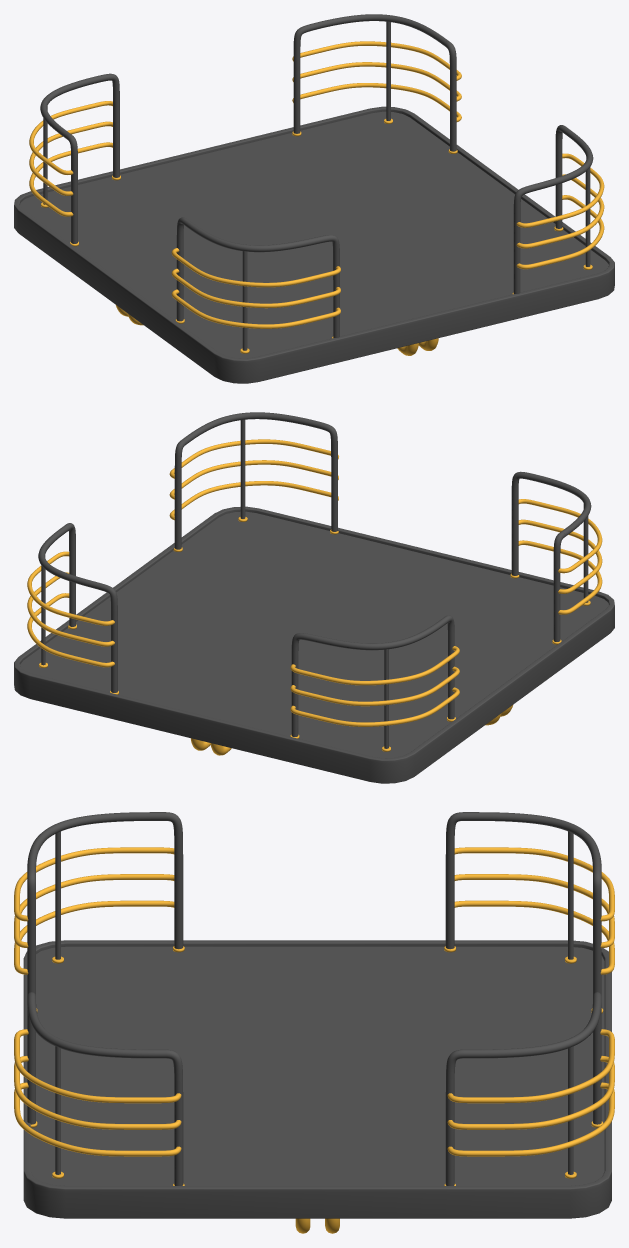
Rendered from Platform4x4.fbx.
3 renders of one model, top to bottom at view 1: azimuth 30°, elevation 25°; view 2: azimuth 150°, elevation 25°; view 3: azimuth 270°, elevation 25°, orthographic. The views are drawn at different scales.
Parts seen in each view (by area): view 1: PlatformFloor, Platform, MainStruct.001, MainStruct.002, MainStruct.003, MainStruct, BarraOriz3.002, BarraOriz1.002, BarraOriz2.002, BarraOriz3.001, BarraOriz1.001, BarraOriz2.001 (+7 smaller); view 2: PlatformFloor, Platform, MainStruct.003, MainStruct.002, MainStruct, MainStruct.001, BarraOriz3, BarraOriz1, BarraOriz2, BarraOriz1.003, BarraOriz3.003, BarraOriz2.003 (+7 smaller); view 3: PlatformFloor, Platform, MainStruct, MainStruct.002, MainStruct.001, MainStruct.003, BarraOriz3.001, BarraOriz3.003, BarraOriz2.001, BarraOriz2.003, BarraOriz1.001, BarraOriz1.003 (+10 smaller).
Part boxes in pixels (left/top/right/bottom): PlatformFloor: left=20, top=111, right=608, bottom=358; Platform: left=14, top=106, right=614, bottom=383; MainStruct.001: left=293, top=14, right=456, bottom=151; MainStruct.002: left=176, top=217, right=339, bottom=337; MainStruct.003: left=513, top=125, right=593, bottom=293; MainStruct: left=40, top=73, right=119, bottom=243; BarraOriz3.002: left=171, top=248, right=340, bottom=287; BarraOriz1.002: left=171, top=268, right=340, bottom=308; BarraOriz2.002: left=171, top=289, right=340, bottom=328; BarraOriz3.001: left=292, top=41, right=461, bottom=80; BarraOriz1.001: left=292, top=62, right=461, bottom=101; BarraOriz2.001: left=292, top=83, right=461, bottom=121; PlatformFloor: left=20, top=511, right=608, bottom=758; Platform: left=14, top=506, right=614, bottom=783; MainStruct.003: left=174, top=412, right=337, bottom=549; MainStruct.002: left=511, top=471, right=591, bottom=641; MainStruct: left=291, top=615, right=454, bottom=736; MainStruct.001: left=38, top=523, right=117, bottom=692; BarraOriz3: left=290, top=646, right=459, bottom=685; BarraOriz1: left=290, top=666, right=459, bottom=706; BarraOriz2: left=290, top=687, right=459, bottom=726; BarraOriz1.003: left=169, top=460, right=338, bottom=499; BarraOriz3.003: left=169, top=439, right=338, bottom=478; BarraOriz2.003: left=169, top=481, right=338, bottom=520; PlatformFloor: left=30, top=946, right=604, bottom=1185; Platform: left=23, top=940, right=611, bottom=1218; MainStruct: left=445, top=812, right=601, bottom=995; MainStruct.002: left=27, top=812, right=183, bottom=995; MainStruct.001: left=445, top=992, right=601, bottom=1185; MainStruct.003: left=27, top=992, right=183, bottom=1185; BarraOriz3.001: left=447, top=1029, right=614, bottom=1103; BarraOriz3.003: left=14, top=1029, right=181, bottom=1103; BarraOriz2.001: left=447, top=1082, right=614, bottom=1156; BarraOriz2.003: left=14, top=1082, right=181, bottom=1156; BarraOriz1.001: left=447, top=1055, right=614, bottom=1129; BarraOriz1.003: left=14, top=1055, right=181, bottom=1129.
Bounding box in the file's own units: 406 × 181 × 408.
